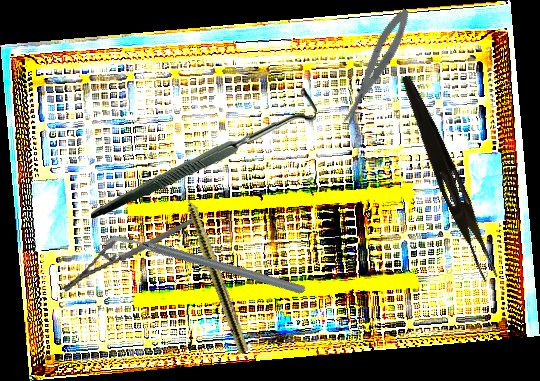Chopper: (98, 167, 309, 364)
Dressing Forceps: (390, 73, 506, 283)
Handpiece: (173, 171, 252, 355)
Hook Surgical: (90, 80, 318, 227)
Micro Scissor: (333, 4, 417, 130)
Needle Holder: (53, 217, 204, 294)
